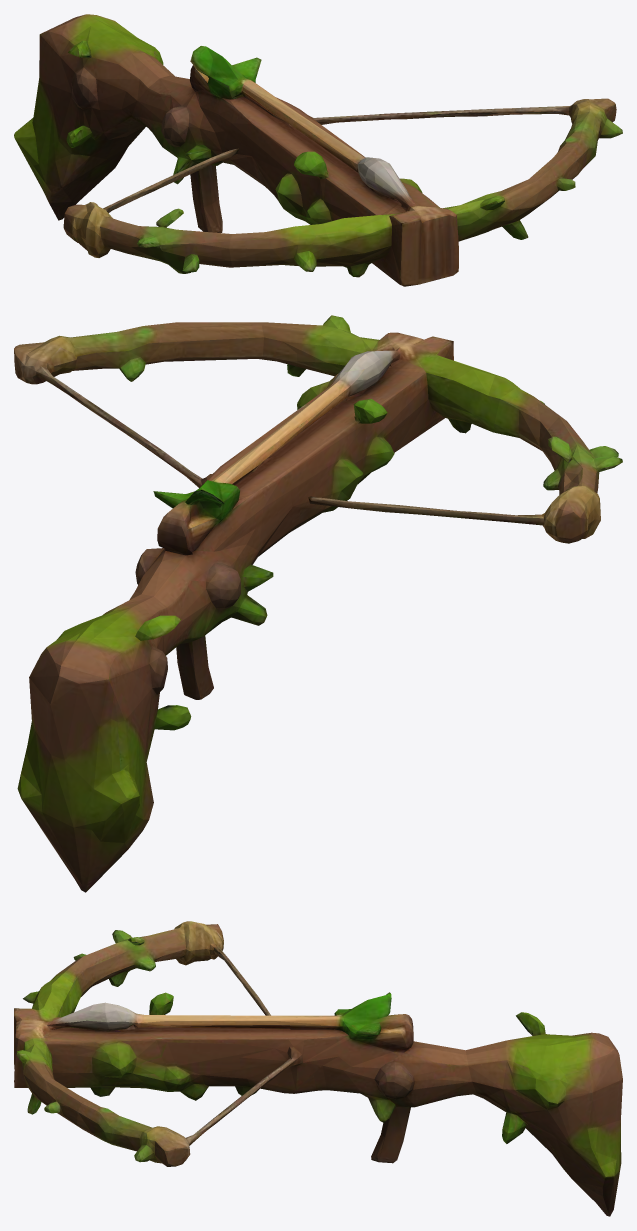
Rendered from a_ecorce_arbalete.glb.
3 views of the same model, one above another, from view 1: azimuth 30°, elevation 25°; view 2: azimuth 150°, elevation 25°; view 3: azimuth 270°, elevation 25° (orthographic). The views are drawn at different scales.
Parts seen in each view (by area): view 1: geometry_0; view 2: geometry_0; view 3: geometry_0.
Boxes of the visible parts, x1,y1,x2,y2 form: geometry_0: (14,14,622,286); geometry_0: (14,315,622,892); geometry_0: (14,921,622,1216).
Size of the model in its own units: 0.8867 by 0.4188 by 0.9975.
1 material, 1 textured.
